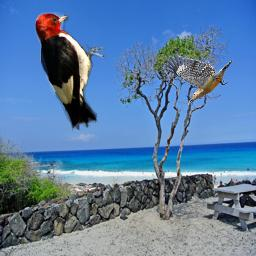Woodpecker: (34, 12, 106, 131), (163, 54, 233, 106)
